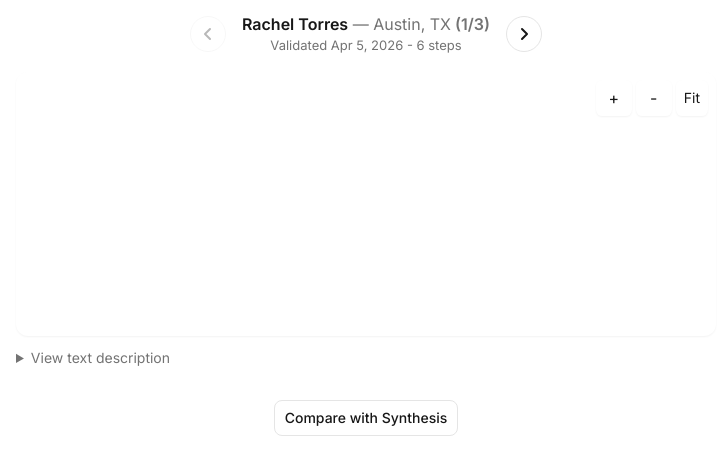
Scenario: IndividualDiagramCarousel › right arrow disabled on last slide
Click the button named "Next interviewee" at [524, 34], box x1=506 y1=16 x2=542 y2=52
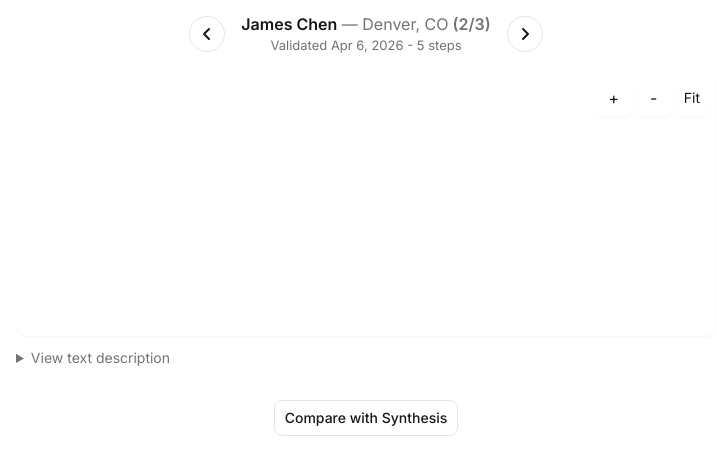
Click the button named "Next interviewee" at [525, 34], box x1=507 y1=16 x2=543 y2=52
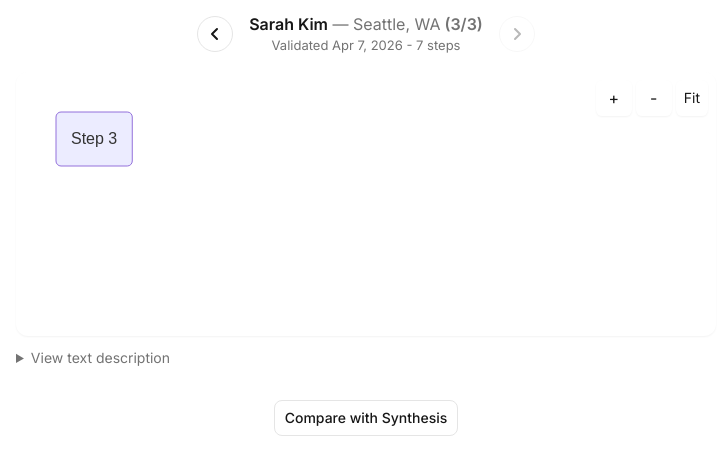
Expected: the button named "Next interviewee" is disabled, x1=499 y1=16 x2=535 y2=52
